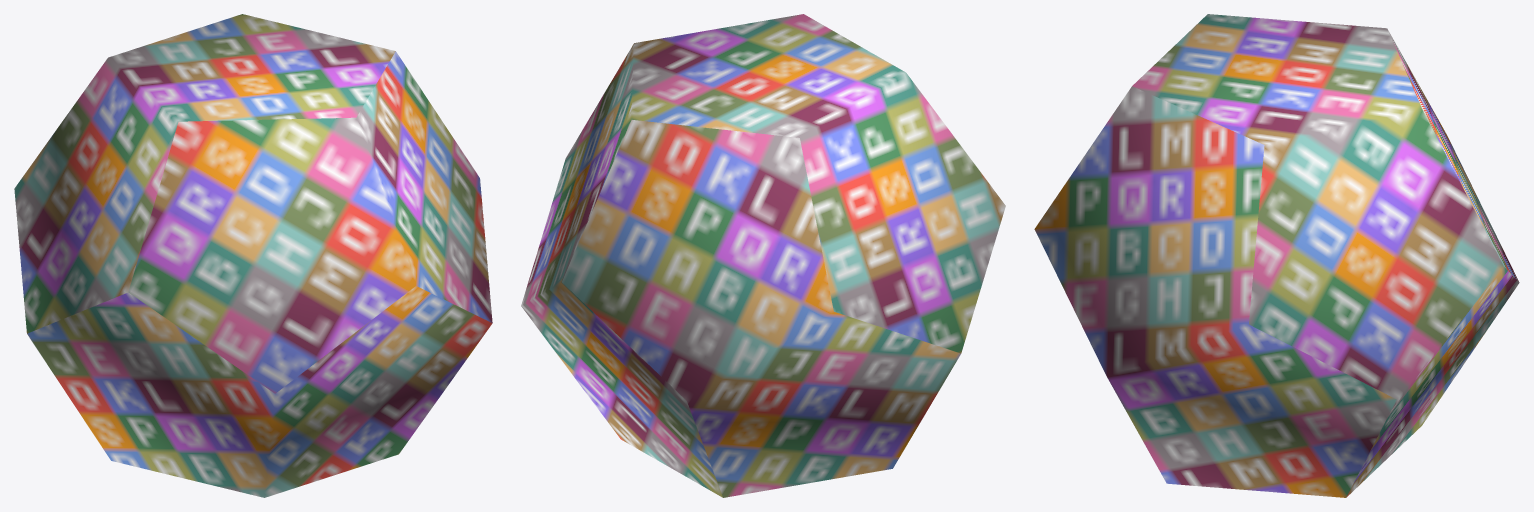
Rendered from engram.dae.
3 renders of one model, left to right at view 1: azimuth 30°, elevation 25°; view 2: azimuth 150°, elevation 25°; view 3: azimuth 270°, elevation 25°, orthographic.
Visible parts, largest first — view 1: dodecahedron1-0; view 2: dodecahedron1-0; view 3: dodecahedron1-0.
Boxes of the visible parts, x1=… form: dodecahedron1-0: x1=14, y1=14, x2=492, y2=497; dodecahedron1-0: x1=521, y1=14, x2=1005, y2=497; dodecahedron1-0: x1=1034, y1=14, x2=1519, y2=497.
Bounding box in the file's own units: 2.75 × 2.3 × 2.68.
